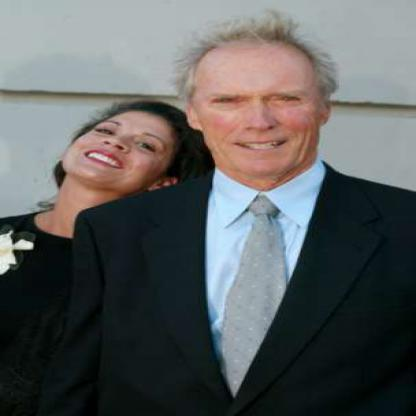face: (195, 35, 324, 179), (78, 99, 181, 193)
